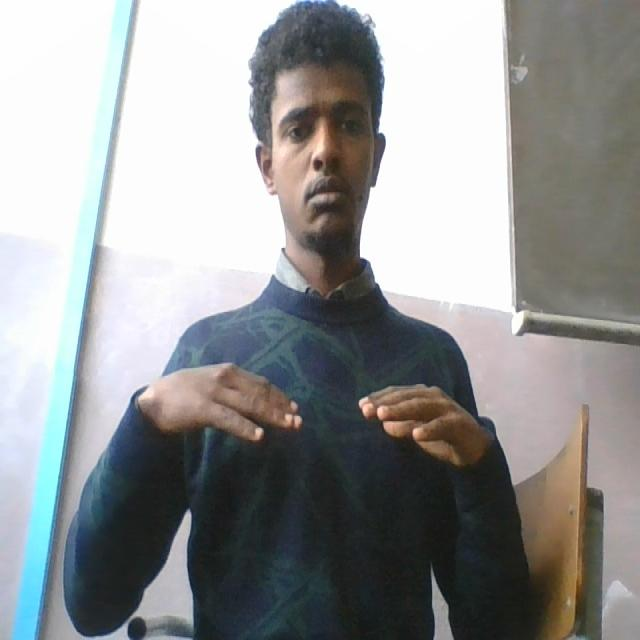meznanat: (149, 358, 497, 488)
